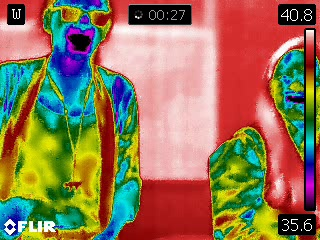human: (1, 1, 146, 240), (207, 36, 320, 230)
